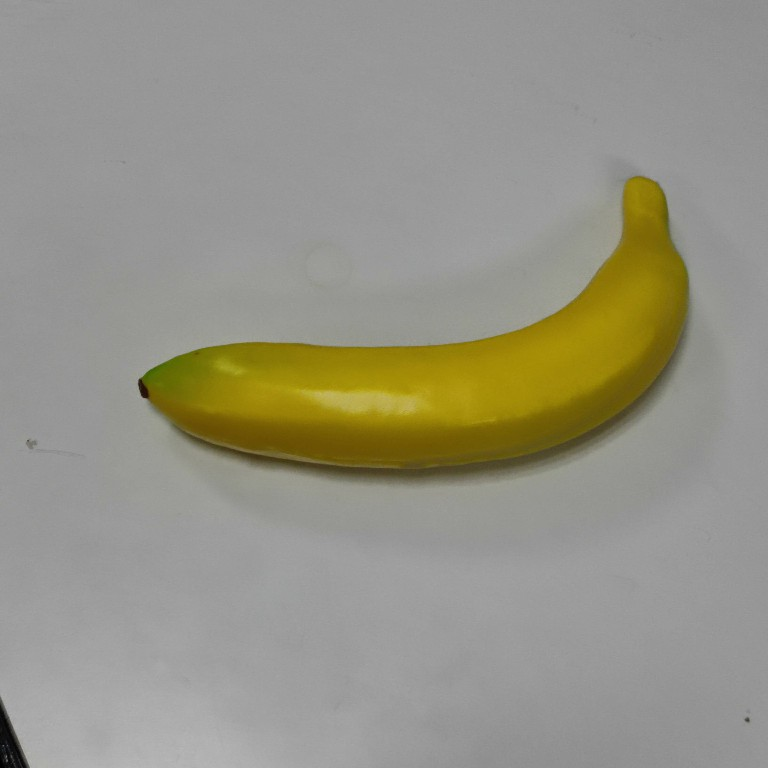fruit_banana: (134, 170, 694, 479)
